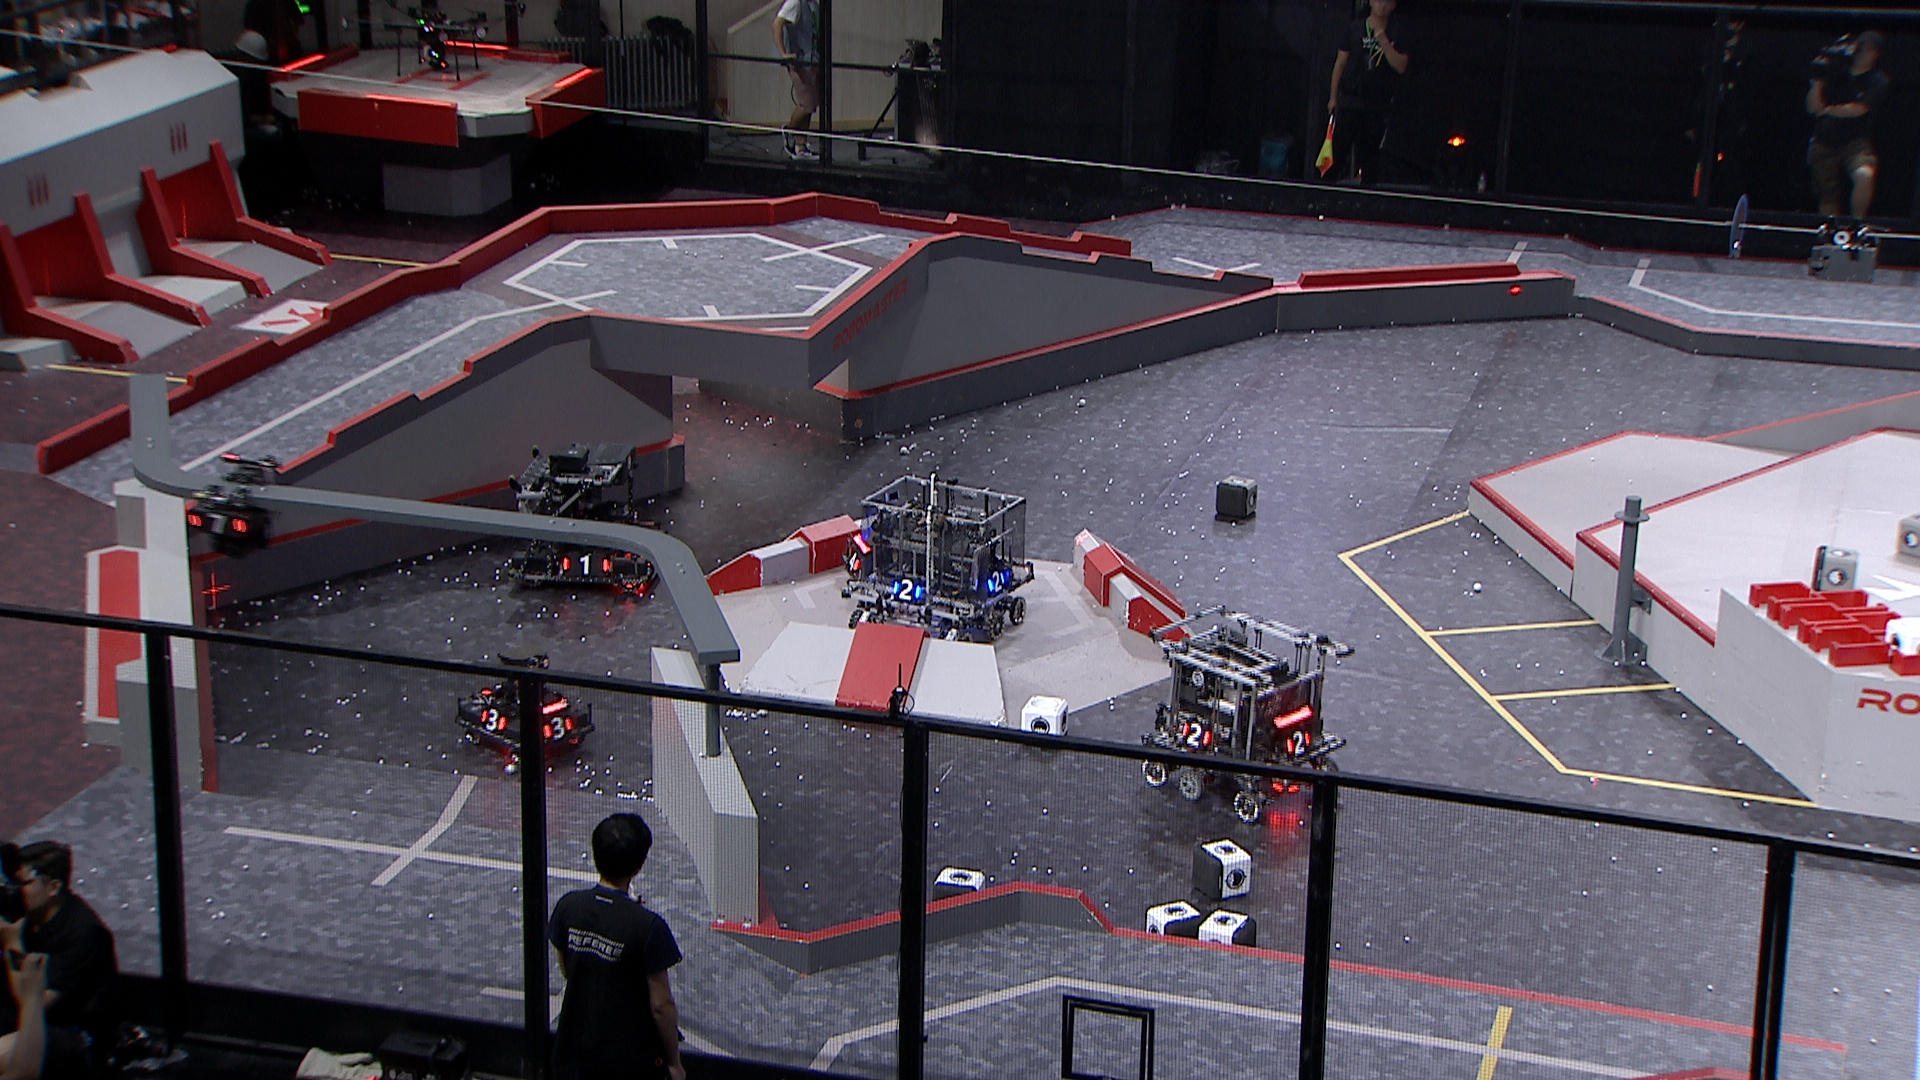armor: (183, 510, 248, 537), (560, 553, 613, 578), (1179, 721, 1211, 750), (889, 576, 923, 603), (543, 713, 572, 741), (479, 707, 509, 733), (1284, 731, 1313, 757), (984, 570, 1006, 595)
car: (1138, 603, 1356, 823), (839, 473, 1033, 651), (505, 451, 665, 593), (451, 644, 597, 765)
watcher: (179, 454, 280, 560)
